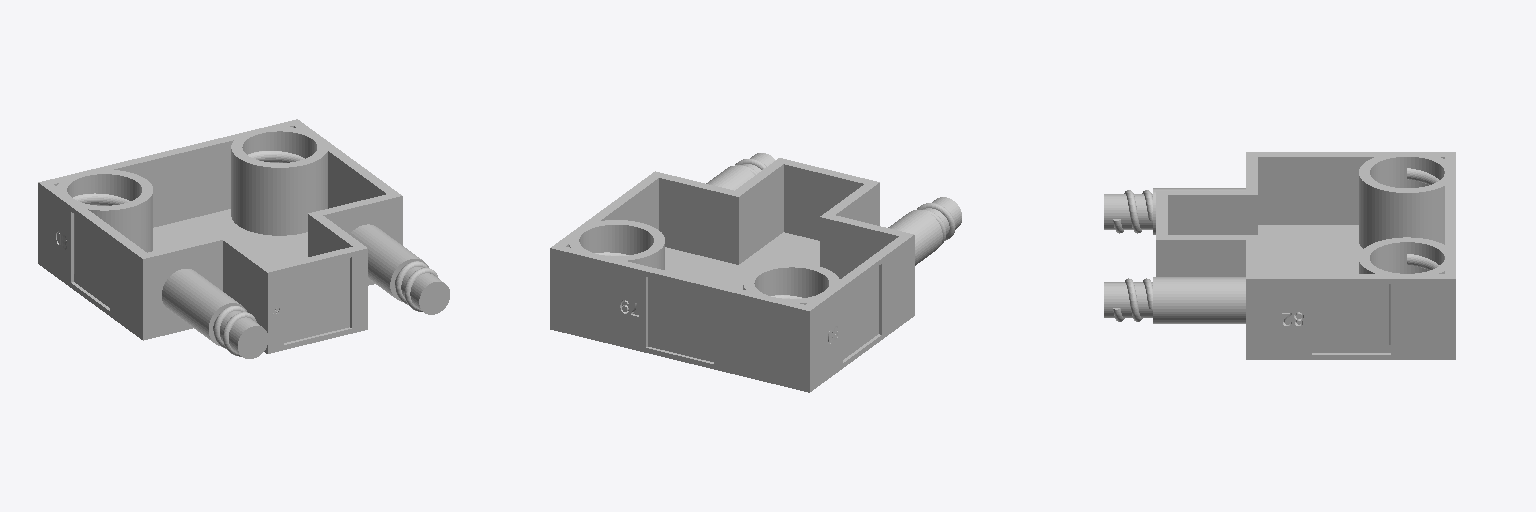
Rendered from chair_seat.obj.
3 views of the same model, side by side, from view 1: azimuth 30°, elevation 25°; view 2: azimuth 150°, elevation 25°; view 3: azimuth 270°, elevation 25° (orthographic).
Parts seen in each view (by area): view 1: chair_seat_placeholder, chair_seat_placeholder.003, chair_seat_placeholder.002; view 2: chair_seat_placeholder, chair_seat_placeholder.001, chair_seat_placeholder.002; view 3: chair_seat_placeholder, chair_seat_placeholder.004.
Boxes of the visible parts, x1=… form: chair_seat_placeholder: x1=38, y1=119, x2=449, y2=358; chair_seat_placeholder.003: x1=284, y1=257, x2=351, y2=344; chair_seat_placeholder.002: x1=71, y1=212, x2=109, y2=310; chair_seat_placeholder: x1=550, y1=153, x2=961, y2=392; chair_seat_placeholder.001: x1=646, y1=277, x2=713, y2=363; chair_seat_placeholder.002: x1=843, y1=264, x2=881, y2=362; chair_seat_placeholder: x1=1104, y1=152, x2=1455, y2=359; chair_seat_placeholder.004: x1=1312, y1=284, x2=1390, y2=354.
Bounding box in the file's own units: 0.1 × 0.03 × 0.1175.